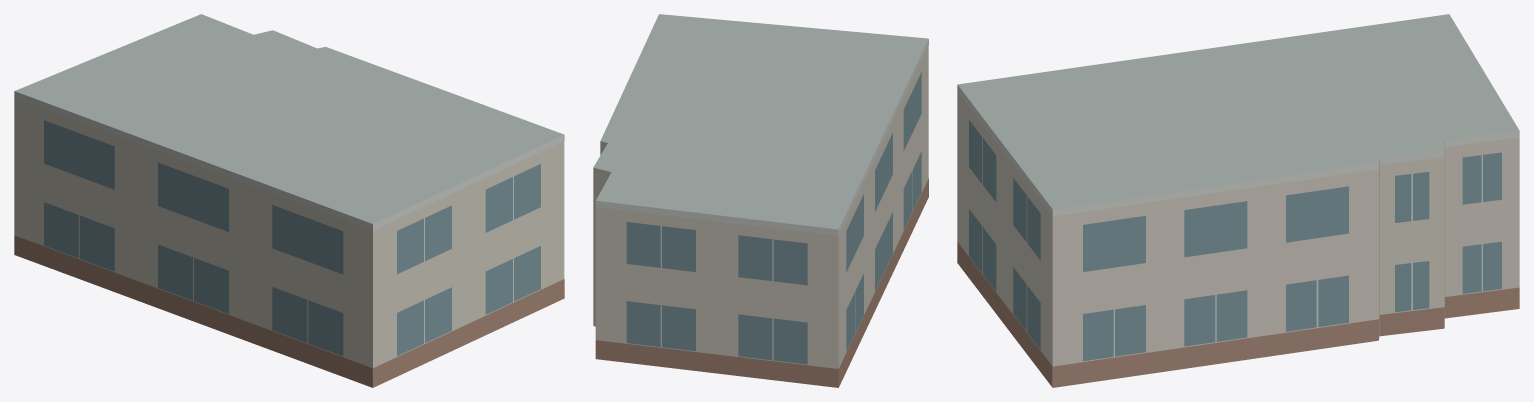
The model's file is survey-upis-32549563.glb.
3 views of the same model, side by side, from view 1: azimuth 30°, elevation 25°; view 2: azimuth 150°, elevation 25°; view 3: azimuth 270°, elevation 25° (orthographic). The views are drawn at different scales.
Visible parts, largest first — view 1: survey-upis-32549563.tmp; view 2: survey-upis-32549563.tmp; view 3: survey-upis-32549563.tmp.
Part boxes in pixels (left/top/right/bottom): survey-upis-32549563.tmp: left=14, top=14, right=564, bottom=387; survey-upis-32549563.tmp: left=593, top=14, right=928, bottom=387; survey-upis-32549563.tmp: left=957, top=14, right=1519, bottom=387.
Size of the model in its own units: 14.35 by 6.1 by 17.43.
